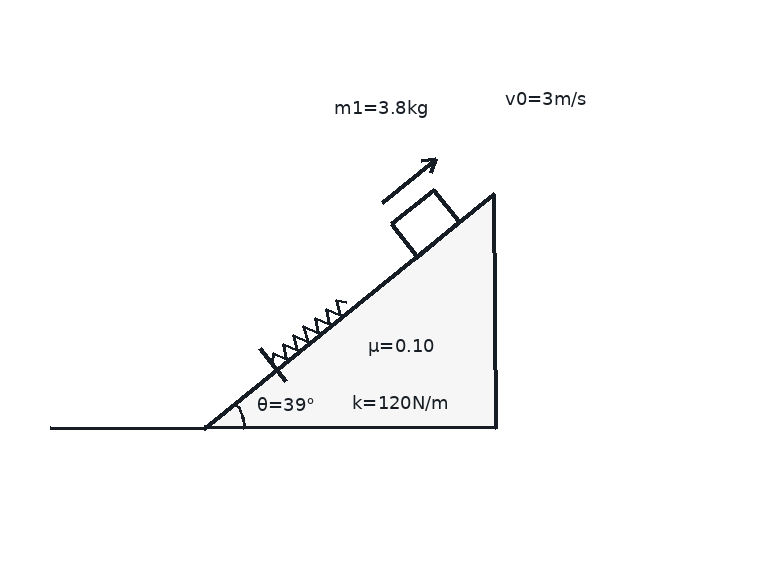block: (388, 188, 461, 258)
ramp: (202, 191, 496, 430)
spring: (269, 298, 348, 364)
